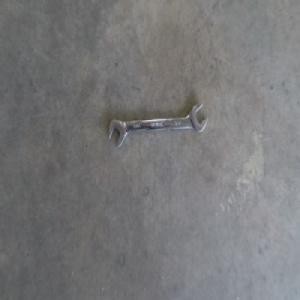Wrench: (108, 103, 207, 147)
